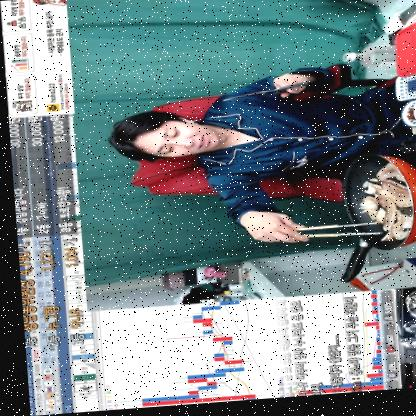streamer: (100, 64, 410, 257)
